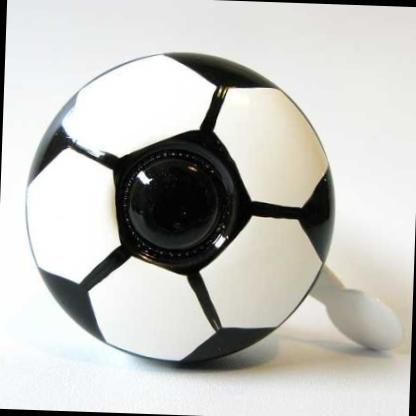ball: (20, 46, 340, 371)
